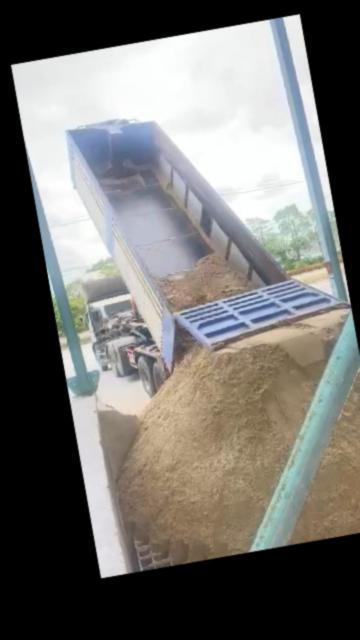sand: (118, 343, 324, 564), (293, 373, 360, 542), (217, 309, 348, 366), (160, 253, 252, 311), (100, 404, 139, 479)
